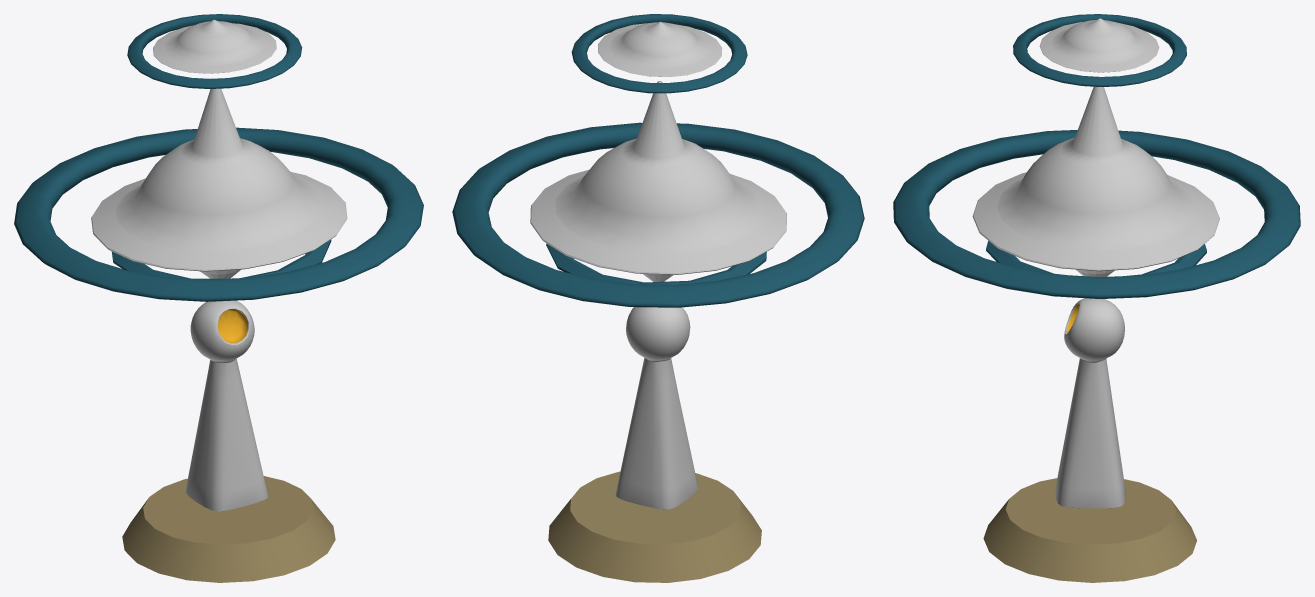
Rendered from tower1.fbx.
3 views of the same model, side by side, from view 1: azimuth 30°, elevation 25°; view 2: azimuth 150°, elevation 25°; view 3: azimuth 270°, elevation 25° (orthographic).
Visible parts, largest first — view 1: new_ta_test:pCylinder2; view 2: new_ta_test:pCylinder2; view 3: new_ta_test:pCylinder2.
Part boxes in pixels (left/top/right/bottom): new_ta_test:pCylinder2: left=14, top=14, right=423, bottom=582; new_ta_test:pCylinder2: left=452, top=14, right=864, bottom=582; new_ta_test:pCylinder2: left=893, top=14, right=1300, bottom=582.
Size of the model in its own units: 3.11 by 4.33 by 3.09.
